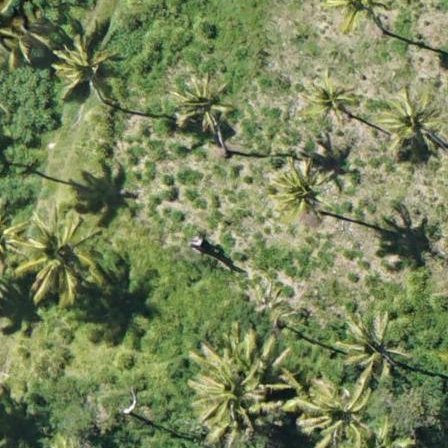palm_tree: (17, 207, 99, 294), (303, 375, 382, 448), (167, 67, 240, 145), (192, 345, 264, 423), (339, 314, 408, 388), (266, 151, 333, 222), (56, 37, 121, 103), (382, 89, 442, 153), (300, 60, 357, 122)
